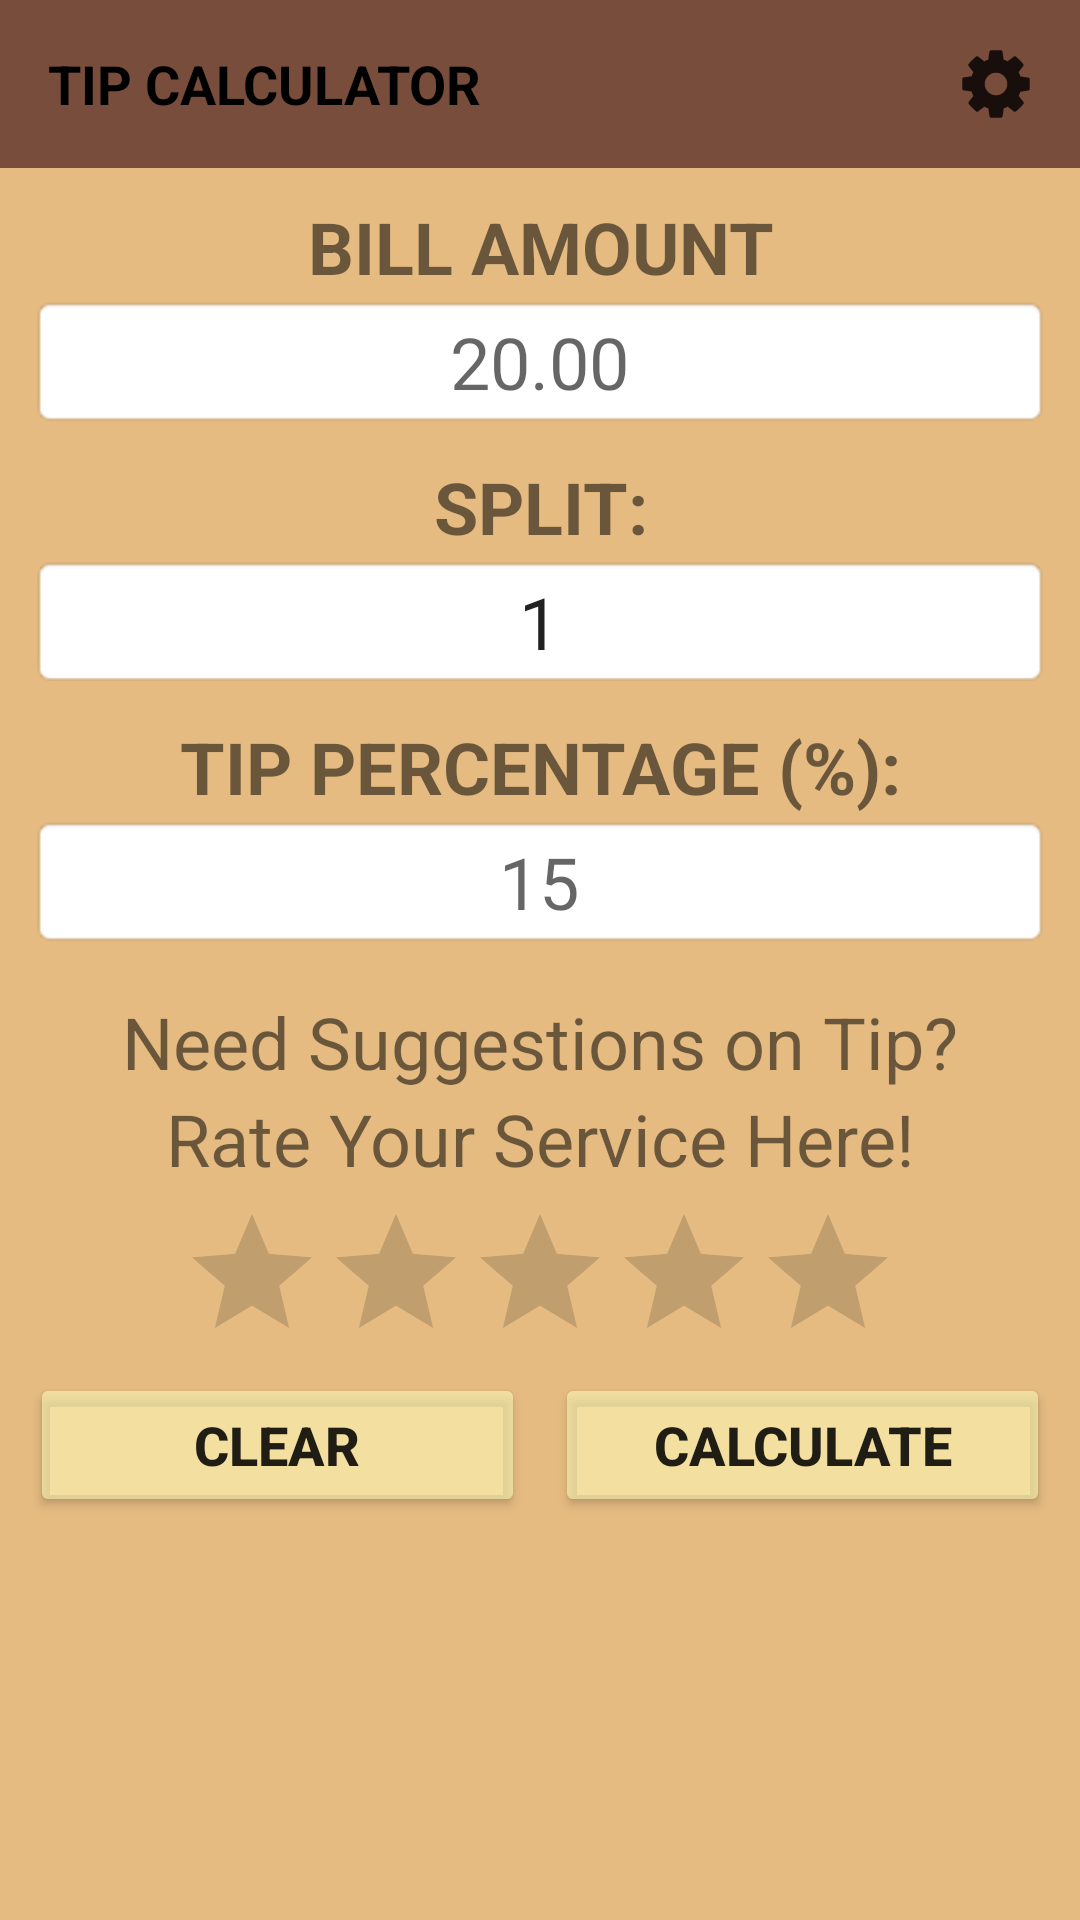

Icon click points for this 1080 × 1920 phone screenshot, format point (x, y):
Settings: point (996, 84)
